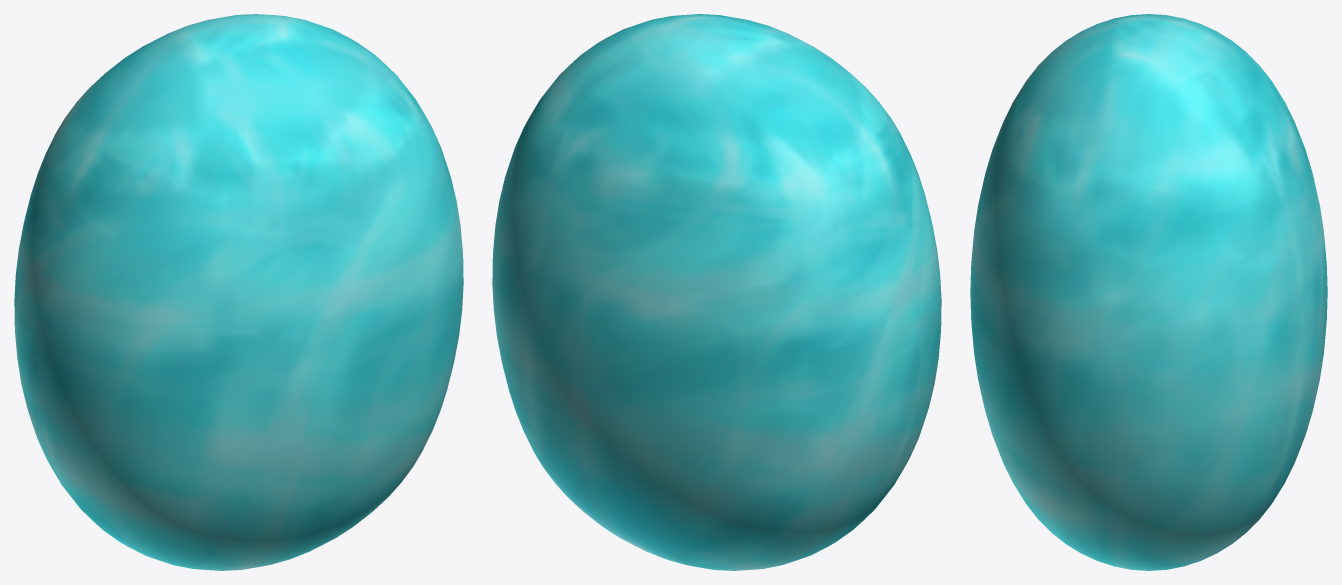
The model's file is lamp_light.fbx.
The picture shows the model from 3 angles, left to right: view 1: azimuth 30°, elevation 25°; view 2: azimuth 150°, elevation 25°; view 3: azimuth 270°, elevation 25°; orthographic projection.
Parts seen in each view (by area): view 1: lamp_light; view 2: lamp_light; view 3: lamp_light.
Boxes of the visible parts, left/top/right/bottom form: lamp_light: left=14, top=14, right=463, bottom=570; lamp_light: left=492, top=14, right=941, bottom=570; lamp_light: left=970, top=14, right=1327, bottom=570.
Size of the model in its own units: 12.98 by 16.15 by 10.11.
